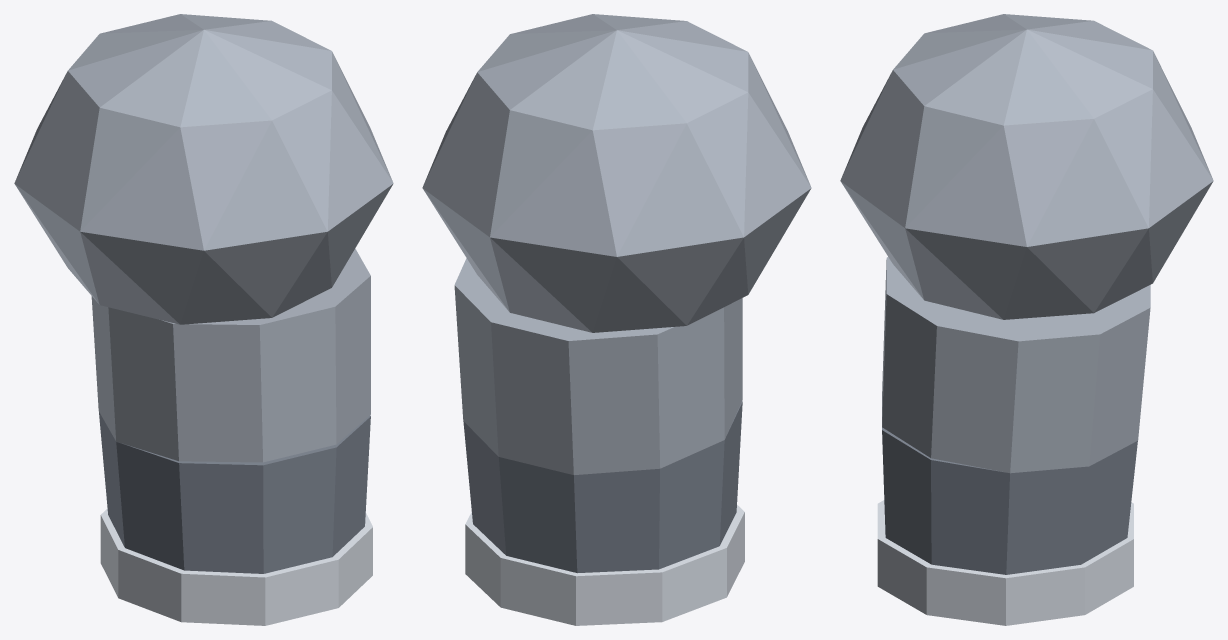
File: gear_steel_chainbody_arm_r.glb
3 renders of one model, left to right at view 1: azimuth 30°, elevation 25°; view 2: azimuth 150°, elevation 25°; view 3: azimuth 270°, elevation 25°, orthographic. The views are drawn at different scales.
Parts seen in each view (by area): view 1: gear_steel_chainbody_arm_r; view 2: gear_steel_chainbody_arm_r; view 3: gear_steel_chainbody_arm_r.
Boxes of the visible parts, x1,y1,x2,y2 form: gear_steel_chainbody_arm_r: [14, 14, 393, 625]; gear_steel_chainbody_arm_r: [422, 14, 811, 625]; gear_steel_chainbody_arm_r: [840, 14, 1213, 625].
Bounding box in the file's own units: 0.1746 × 0.277 × 0.1773.
